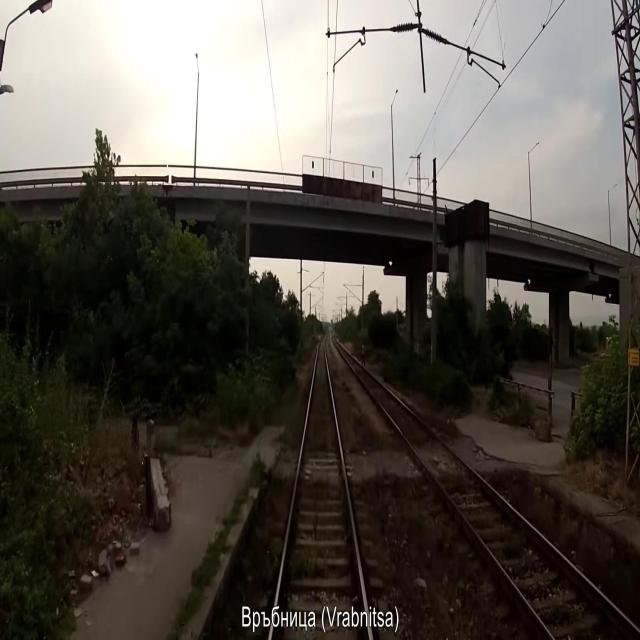rail-track: (340, 348, 640, 639), (279, 338, 362, 601)
